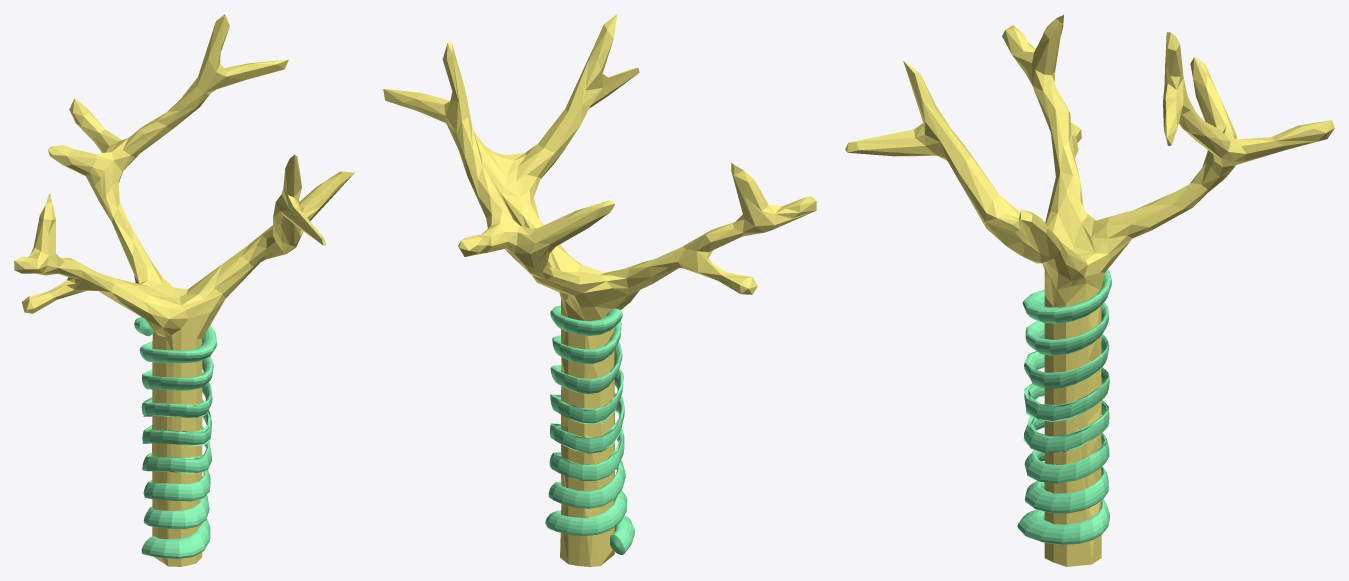
File: tress1.fbx
The picture shows the model from 3 angles, left to right: view 1: azimuth 30°, elevation 25°; view 2: azimuth 150°, elevation 25°; view 3: azimuth 270°, elevation 25°; orthographic projection. The views are drawn at different scales.
Parts seen in each view (by area): view 1: PM3D_Cylinder3D1, PM3D_Helix3D_1; view 2: PM3D_Cylinder3D1, PM3D_Helix3D_1; view 3: PM3D_Cylinder3D1, PM3D_Helix3D_1.
Boxes of the visible parts, <box> form: PM3D_Cylinder3D1: <box>14,14,354,566</box>; PM3D_Helix3D_1: <box>134,317,217,558</box>; PM3D_Cylinder3D1: <box>383,14,816,566</box>; PM3D_Helix3D_1: <box>545,305,635,554</box>; PM3D_Cylinder3D1: <box>845,14,1334,566</box>; PM3D_Helix3D_1: <box>1017,269,1111,544</box>.
Size of the model in its own units: 3.03 by 4.13 by 3.2.
